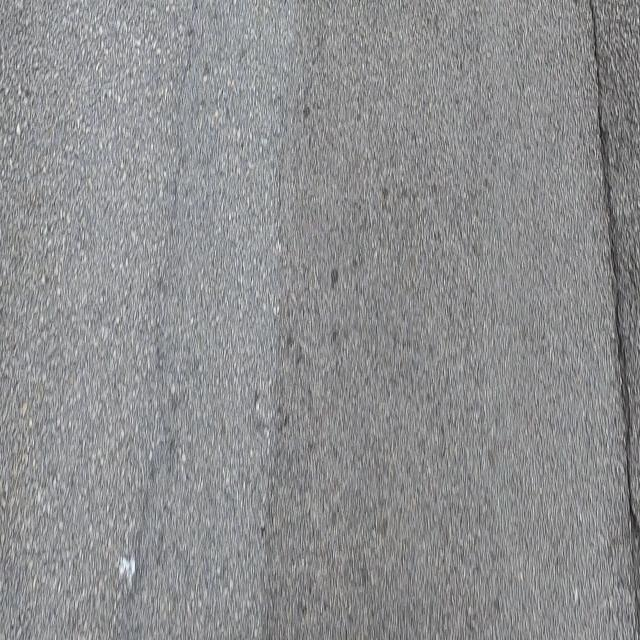Retak-Memanjang: (587, 3, 639, 541)
